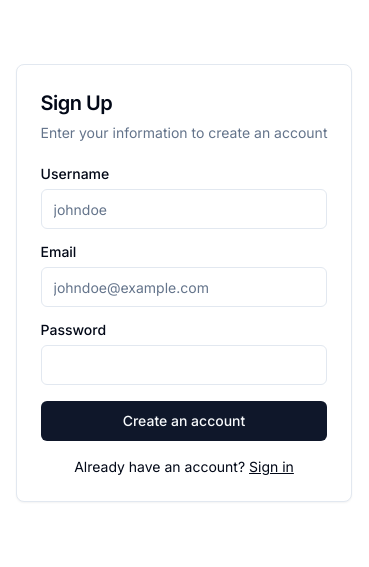
Test: Registration Tests › should show validation errors on empty fields
// Click the submit button without filling out the form
Click the submit button at point(185, 421), box 41,401 -> 328,441
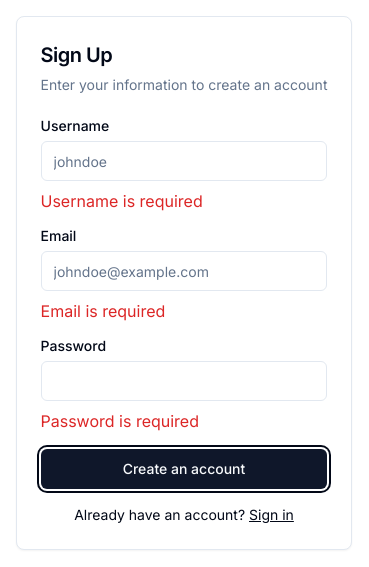
Check: the text "Username is required" is shown, box 40,191 -> 203,211
Check: the text "Email is required" is shown, box 40,301 -> 165,321
Check: the text "Password is required" is shown, box 40,411 -> 199,431
